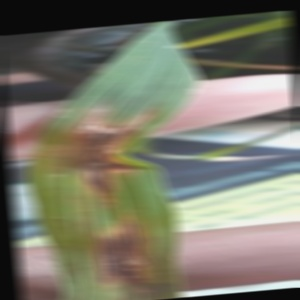Brown_Spot: (83, 211, 152, 289), (74, 105, 122, 159), (72, 152, 118, 202)
